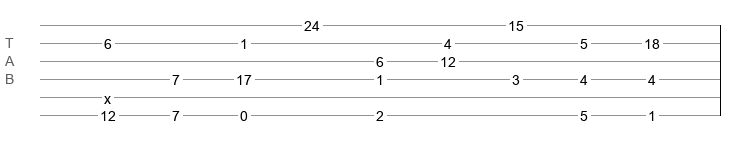0: (240, 108, 248, 118)
1: (240, 36, 248, 46), (376, 72, 384, 82), (648, 108, 656, 118)
12: (100, 108, 116, 118), (440, 54, 456, 64)
15: (508, 18, 524, 28)
17: (236, 72, 252, 82)
18: (644, 36, 660, 46)
2: (376, 108, 384, 118)
24: (304, 18, 320, 28)
3: (512, 72, 520, 82)
4: (444, 36, 452, 46), (580, 72, 588, 82), (648, 72, 656, 82)
5: (580, 108, 588, 118), (580, 36, 588, 46)
6: (104, 36, 112, 46), (376, 54, 384, 64)
7: (172, 72, 180, 82), (172, 108, 180, 118)
x: (104, 91, 111, 99)
